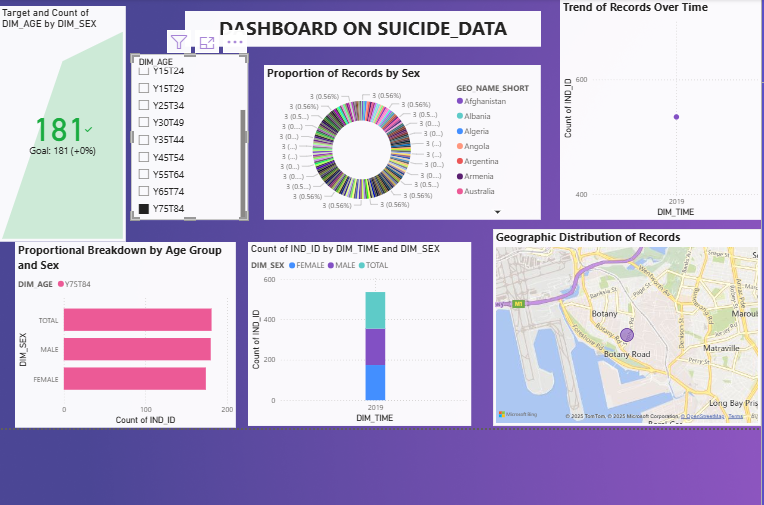

Layout of this report page (visuals, bound fields, positions):
{"tool":"powerbi","page":{"name":"Page 1","canvas":[1280,720],"ordinal":0},"visuals":[{"type":"textbox","box":[312.4,20.2,598,60.5],"z":0},{"type":"barChart","title":"Proportional Breakdown by Age Group and Sex","fields":{"Y":["CountNonNull(suicide_data.IND_ID)"],"Category":["suicide_data.DIM_SEX"],"Series":["suicide_data.DIM_AGE"]},"box":[0,426.7,374.6,294],"z":1000},{"type":"lineChart","title":"Trend of Records Over Time","fields":{"Category":["suicide_data.DIM_TIME"],"Y":["CountNonNull(suicide_data.IND_ID)"]},"box":[954.1,20.2,325.9,394.8],"z":2000},{"type":"map","title":"Geographic Distribution of Records","fields":{"Size":["CountNonNull(suicide_data.IND_ID)"],"Category":["suicide_data.DIM_TIME"]},"box":[838,385.8,442.3,334.2],"z":3000},{"type":"donutChart","title":"Proportion of Records by Sex","fields":{"Y":["CountNonNull(suicide_data.IND_ID)"],"Category":["suicide_data.GEO_NAME_SHORT"]},"box":[483.8,94.1,455.2,292.3],"z":4000},{"type":"ribbonChart","title":"Records according to time and sex","fields":{"Category":["suicide_data.DIM_TIME"],"Y":["CountNonNull(suicide_data.IND_ID)"],"Series":["suicide_data.DIM_SEX"]},"box":[388,414.9,446.8,305.7],"z":5000},{"type":"kpi","fields":{"Indicator":["suicide_data.Target"],"TrendLine":["suicide_data.DIM_SEX"],"Goal":["CountNonNull(suicide_data.DIM_AGE)"]},"box":[0,0,240.2,414.9],"z":6001},{"type":"slicer","fields":{"Values":["suicide_data.DIM_AGE"]},"box":[258,118,196.6,277.7],"z":6002}]}

Visuals, with their boxes in screenshot pixels (x1, y1, x2, y2):
textbox: bbox(169, 0, 534, 33)
"Proportional Breakdown by Age Group and Sex" barChart: bbox(0, 244, 207, 424)
"Trend of Records Over Time" lineChart: bbox(560, 0, 759, 237)
"Geographic Distribution of Records" map: bbox(490, 220, 759, 423)
"Proportion of Records by Sex" donutChart: bbox(273, 42, 551, 220)
"Records according to time and sex" ribbonChart: bbox(215, 237, 488, 424)
kpi - suicide_data.Target x suicide_data.DIM_SEX: bbox(0, 0, 125, 237)
slicer - suicide_data.DIM_AGE: bbox(136, 56, 256, 226)
